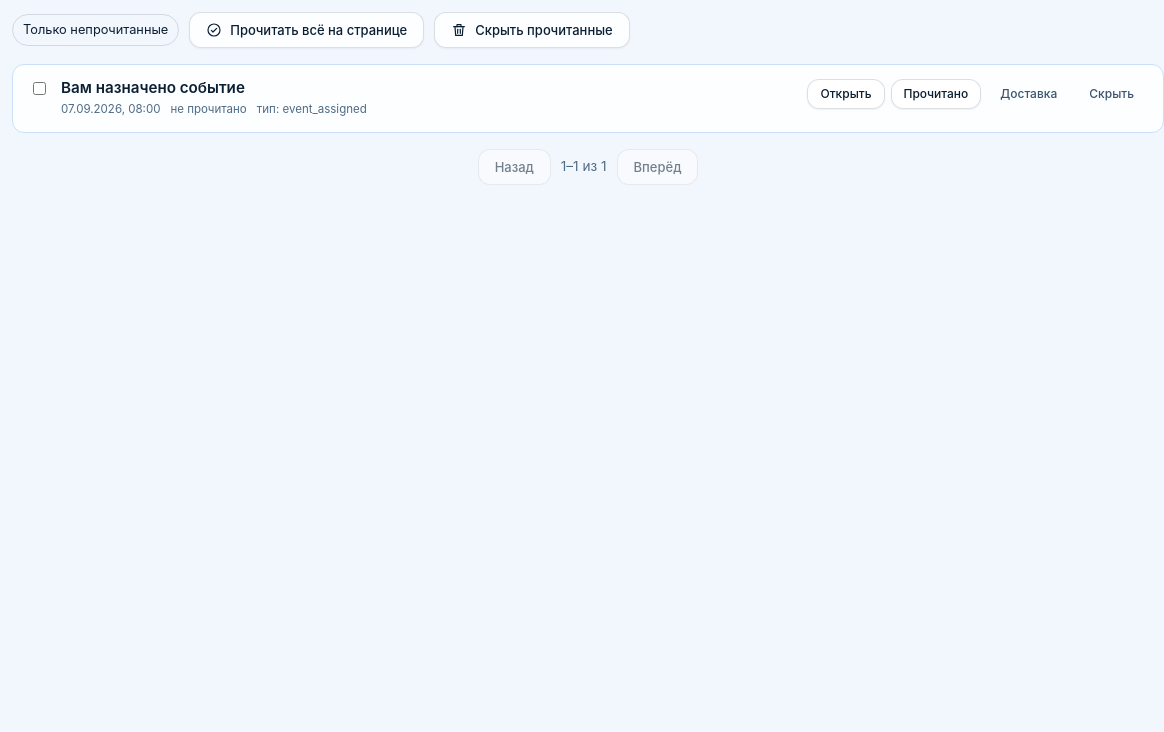
NotificationCenterPage › stays put when the backend denies access to the linked object
The width and height of the screenshot is (1164, 732).
Expected: the heading "Вам назначено событие" is shown, x1=61 y1=78 x2=245 y2=97
Click the button "Открыть" at (846, 94), box x1=807 y1=79 x2=884 y2=109
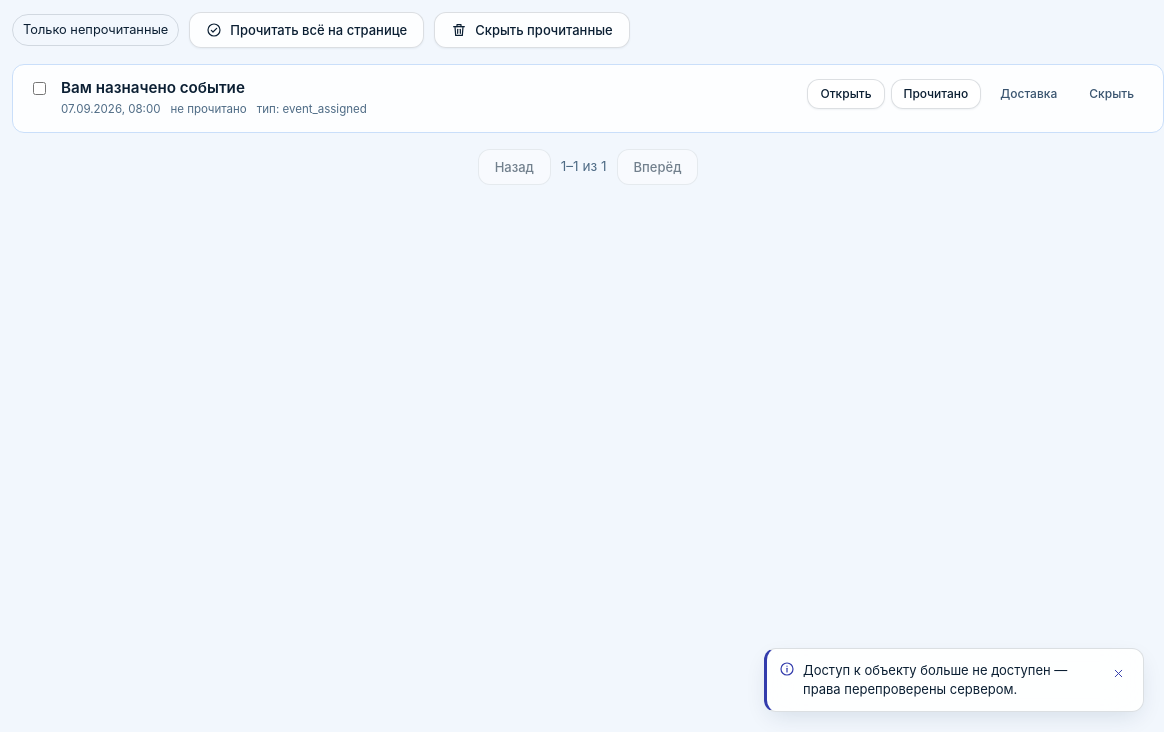
Result: the text "права перепроверены сервером" is shown at x1=803 y1=662 x2=1067 y2=697
